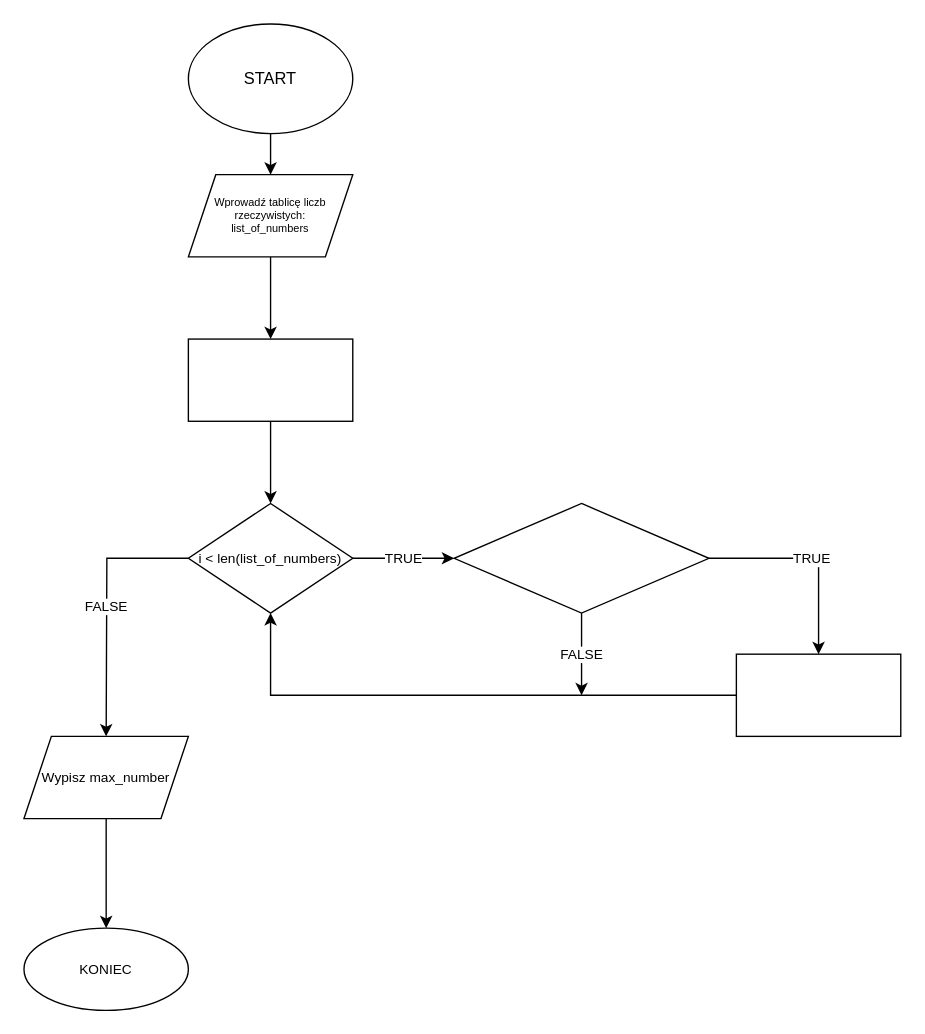
Image size: 925x1034. Some labels were removed from this diagram. The shapes that lost their labels are listed below. From the top down, each one's centre as x and y in pixels, then its label:
At pixel 270 379: "max_number = 0, i = 0".
At pixel 581 557: "max_number < list_of_numbers[i]".
At pixel 818 694: "max_number = list_of_numbers[i]".
